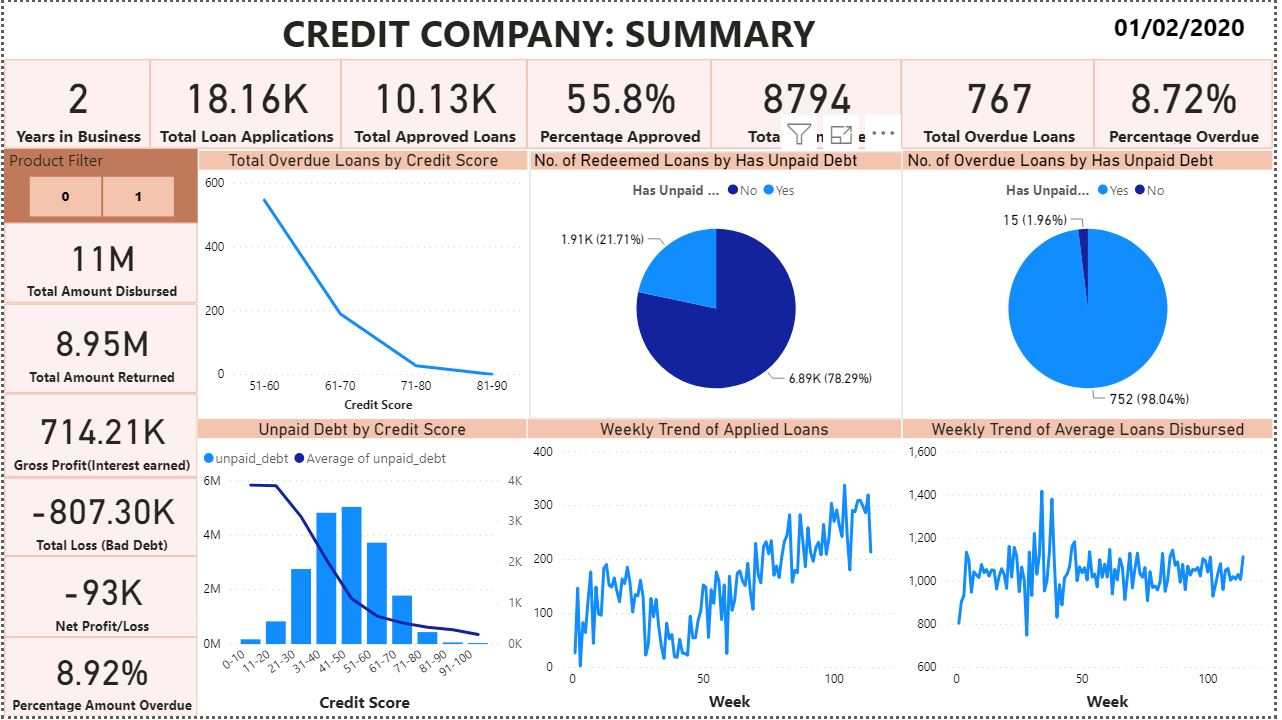

The page's visual inventory and layout, read from the dashboard file:
{"tool":"powerbi","page":{"name":"Overview","canvas":[1280,720],"ordinal":0},"visuals":[{"type":"textbox","box":[1090.8,3.2,189.2,54.1],"z":0},{"type":"textbox","box":[0,0,1098.7,85.9],"z":1000},{"type":"card","title":"No. of Loan Applications","fields":{"Values":["Count(credit.id)"]},"box":[146.3,57.2,194,90.6],"z":2000},{"type":"slicer","title":"Product Filter","fields":{"Values":["credit.product"]},"box":[0,147.9,195.6,74.7],"z":3000},{"type":"card","fields":{"Values":["CountNonNull(credit.accept)"]},"box":[338.7,57.2,189.2,90.6],"z":4000},{"type":"card","fields":{"Values":["credit.%approved"]},"box":[526.3,57.2,187.6,90.6],"z":5000},{"type":"card","fields":{"Values":["credit.Total_disbursed_loans"]},"box":[0,222.6,195.6,81.1],"z":6000},{"type":"card","fields":{"Values":["Sum(credit.returned_amount)"]},"box":[0,303.7,195.6,90.6],"z":7000},{"type":"card","fields":{"Values":["credit.Total_due_loans"]},"box":[712.3,57.2,192.4,90.6],"z":8000},{"type":"card","fields":{"Values":["credit.Total_overdue_loans"]},"box":[904.7,57.2,195.6,90.6],"z":9000},{"type":"card","fields":{"Values":["credit.%overdue"]},"box":[1098.7,57.2,181.3,90.6],"z":10000},{"type":"card","fields":{"Values":["credit.%overdue_amount"]},"box":[0,639.2,195.6,81.1],"z":11000},{"type":"card","fields":{"Values":["credit.years_in_business"]},"box":[0,57.2,147.9,90.6],"z":12000},{"type":"card","fields":{"Values":["credit.Total_profit"]},"box":[0,394.3,195.6,85.9],"z":13000},{"type":"card","fields":{"Values":["credit.Total_loss"]},"box":[0,478.6,195.6,81.1],"z":14000},{"type":"card","fields":{"Values":["Sum(credit.profit)"]},"box":[0,558.1,195.6,82.7],"z":15000},{"type":"lineChart","fields":{"Category":["credit.credit_score_bins"],"Y":["CountNonNull(credit.overdue)"]},"box":[196.6,149.7,331.3,269.2],"z":16000},{"type":"pieChart","fields":{"Category":["credit.has_unpaid_debt"],"Y":["CountNonNull(credit.overdue)"]},"box":[906.3,149.5,373.7,270.3],"z":17000},{"type":"pieChart","fields":{"Category":["credit.has_unpaid_debt"],"Y":["CountNonNull(credit.returned_amount)"]},"box":[529.5,149.5,376.8,270.3],"z":18000},{"type":"lineClusteredColumnComboChart","title":"Unpaid Debt by Credit Score","fields":{"Category":["credit.credit_score_bins"],"Y":["Sum(credit.unpaid_debt)"],"Y2":["Avg(credit.unpaid_debt)"]},"box":[195.6,419.8,332.3,300.5],"z":19000},{"type":"lineChart","title":"Weekly Trend of Applied Loans","fields":{"Y":["credit.Total_applied_loans"],"Category":["credit.week"]},"box":[527.9,419.8,376.8,298.9],"z":20000},{"type":"lineChart","title":"Weekly Trend of Average Loans Disbursed","fields":{"Y":["credit.average_loans_amt"],"Category":["credit.week"]},"box":[906.3,419.8,373.7,298.9],"z":21000}]}

Visuals, with their boxes in screenshot pixels (x1, y1, x2, y2), scaled from the page's 1280x720 canvas onto the 1282x720 screenshot:
textbox: BBox(1093, 3, 1281, 57)
textbox: BBox(0, 0, 1100, 86)
"No. of Loan Applications" card: BBox(147, 57, 341, 148)
"Product Filter" slicer: BBox(0, 148, 196, 223)
card - CountNonNull(credit.accept): BBox(339, 57, 529, 148)
card - credit.%approved: BBox(527, 57, 715, 148)
card - credit.Total_disbursed_loans: BBox(0, 223, 196, 304)
card - Sum(credit.returned_amount): BBox(0, 304, 196, 394)
card - credit.Total_due_loans: BBox(713, 57, 906, 148)
card - credit.Total_overdue_loans: BBox(906, 57, 1102, 148)
card - credit.%overdue: BBox(1100, 57, 1281, 148)
card - credit.%overdue_amount: BBox(0, 639, 196, 719)
card - credit.years_in_business: BBox(0, 57, 148, 148)
card - credit.Total_profit: BBox(0, 394, 196, 480)
card - credit.Total_loss: BBox(0, 479, 196, 560)
card - Sum(credit.profit): BBox(0, 558, 196, 641)
lineChart - credit.credit_score_bins x CountNonNull(credit.overdue): BBox(197, 150, 529, 419)
pieChart - credit.has_unpaid_debt x CountNonNull(credit.overdue): BBox(908, 150, 1281, 420)
pieChart - credit.has_unpaid_debt x CountNonNull(credit.returned_amount): BBox(530, 150, 908, 420)
"Unpaid Debt by Credit Score" lineClusteredColumnComboChart: BBox(196, 420, 529, 719)
"Weekly Trend of Applied Loans" lineChart: BBox(529, 420, 906, 719)
"Weekly Trend of Average Loans Disbursed" lineChart: BBox(908, 420, 1281, 719)
